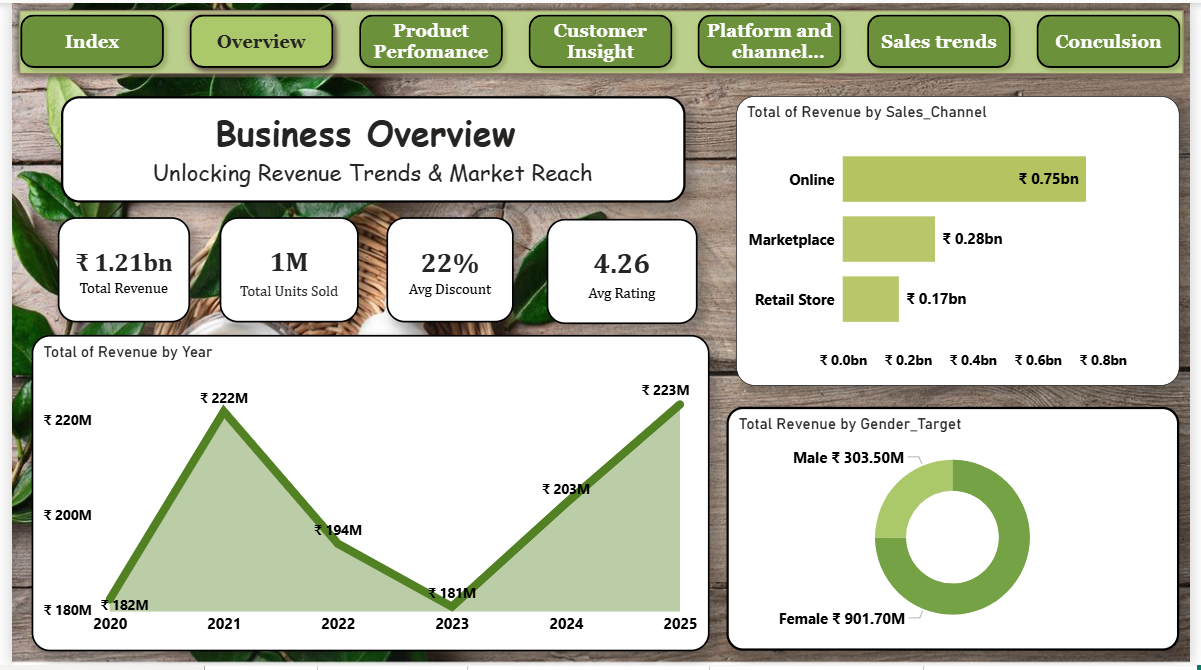

Layout of this report page (visuals, bound fields, positions):
{"tool":"powerbi","page":{"name":"Overview","canvas":[1280,720],"ordinal":1},"visuals":[{"type":"card","fields":{"Values":["Sum(skincare.Revenue_INR)"]},"box":[49.1,232.7,143.6,114.5],"z":0},{"type":"card","fields":{"Values":["Sum(skincare.Units_Sold)"]},"box":[225.5,232.7,150.9,114.5],"z":1000},{"type":"card","fields":{"Values":["Avg(skincare.Discount%)"]},"box":[407.3,232.7,138.2,114.5],"z":2000},{"type":"card","fields":{"Values":["Avg(skincare.Customer_Rating)"]},"box":[580,234.5,163.6,114.5],"z":3000},{"type":"donutChart","fields":{"Category":["skincare.Gender_Target"],"Y":["Sum(skincare.Revenue_INR)"]},"box":[776.1,438.6,491.9,264.6],"z":4000},{"type":"areaChart","fields":{"Category":["skincare.Year"],"Y":["Sum(skincare.Revenue_INR)"]},"box":[21.8,360,736.4,343.6],"z":5000},{"type":"clusteredBarChart","fields":{"Category":["skincare.Sales_Channel"],"Y":["Sum(skincare.Revenue_INR)"]},"box":[786.7,101.2,481.3,314.3],"z":6000},{"type":"textbox","box":[53.3,101.2,678.4,115.4],"z":7000},{"type":"shape","box":[0,0,1280.4,85],"z":8000},{"type":"pageNavigator","box":[0,3.6,1280.4,76.4],"z":9000}]}

Visuals, with their boxes in screenshot pixels (x1, y1, x2, y2), scaled from the page's 1280x720 canvas onto the 1201x670 screenshot:
card - Sum(skincare.Revenue_INR): [46,217,181,323]
card - Sum(skincare.Units_Sold): [212,217,353,323]
card - Avg(skincare.Discount%): [382,217,512,323]
card - Avg(skincare.Customer_Rating): [544,218,698,325]
donutChart - skincare.Gender_Target x Sum(skincare.Revenue_INR): [728,408,1190,654]
areaChart - skincare.Year x Sum(skincare.Revenue_INR): [20,335,711,655]
clusteredBarChart - skincare.Sales_Channel x Sum(skincare.Revenue_INR): [738,94,1190,387]
textbox: [50,94,687,202]
shape: [0,0,1200,79]
pageNavigator: [0,3,1200,74]
